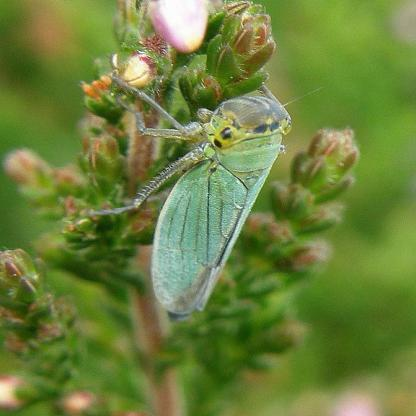Green-Leafhopper: (96, 58, 295, 324)
